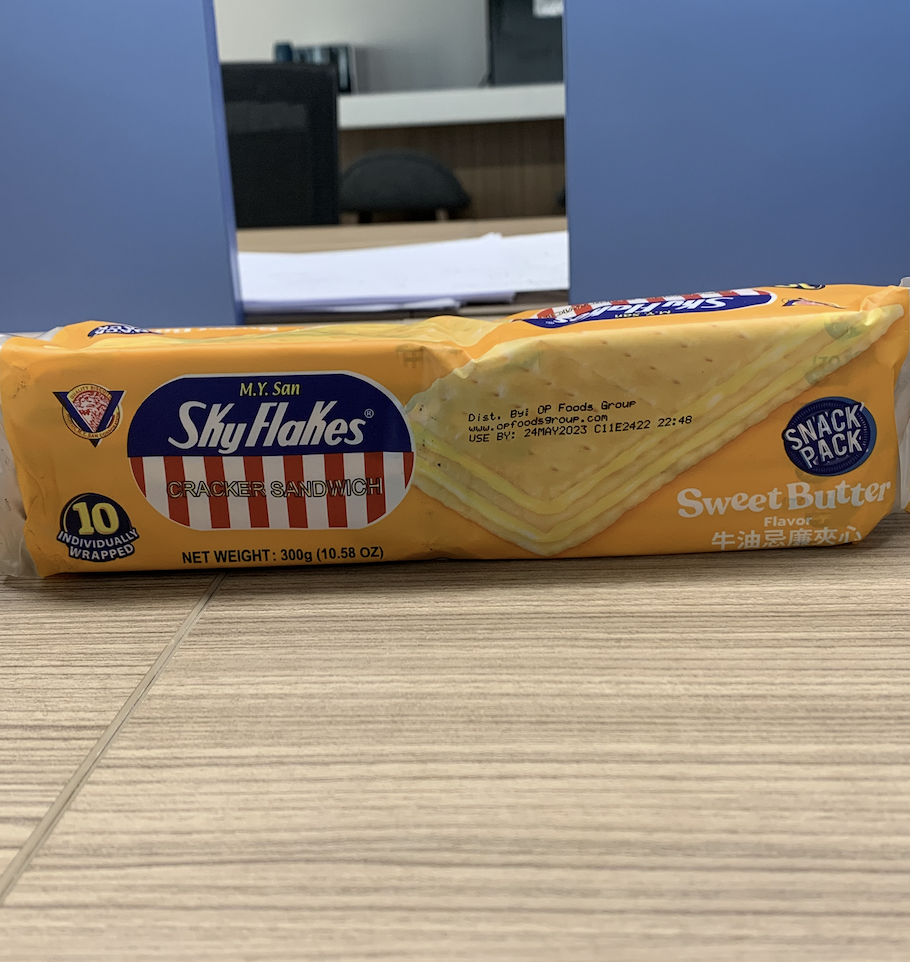crackers_450g: (33, 340, 872, 559)
